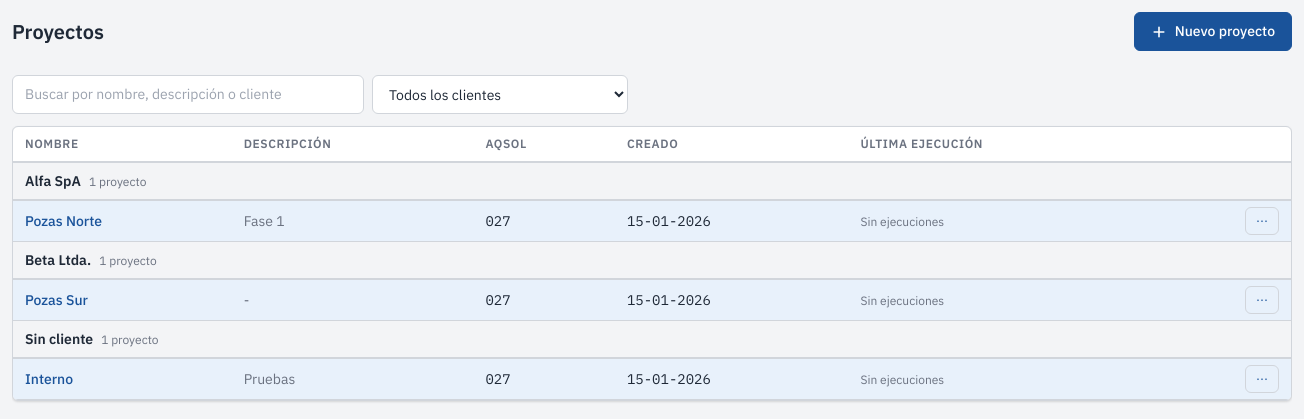
ProjectsPage F8 › filtra por texto y por cliente
Check: the link "Pozas Norte" is shown, box top-left (25, 212), bottom-right (102, 230)
Type "pruebas" into the search field with test id "project-filter".
click(188, 94); type("pruebas")  # box top-left (12, 75), bottom-right (364, 114)
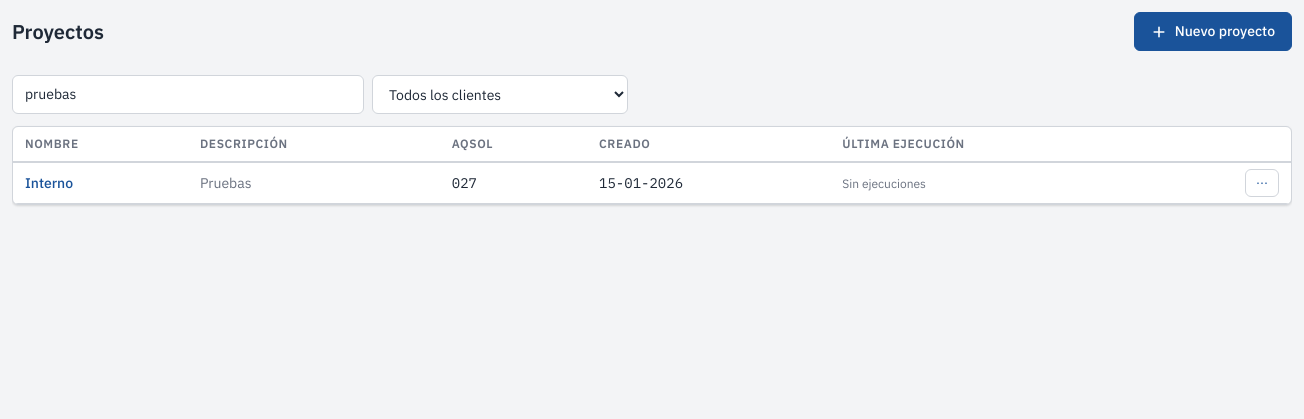
Check: the link "Interno" is shown, box top-left (25, 174), bottom-right (73, 192)
Check: the link "Pozas Norte" is gone
Clear the search field with test id "project-filter" at point(188, 94), box top-left (12, 75), bottom-right (364, 114)
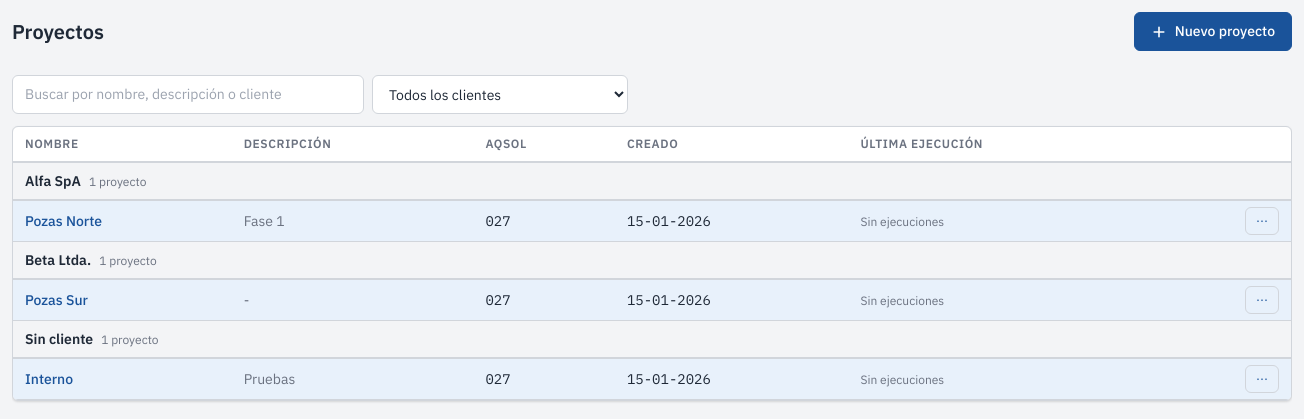
Select "Beta Ltda." in the dropdown with test id "client-filter" at point(500, 94), box top-left (372, 75), bottom-right (628, 114)
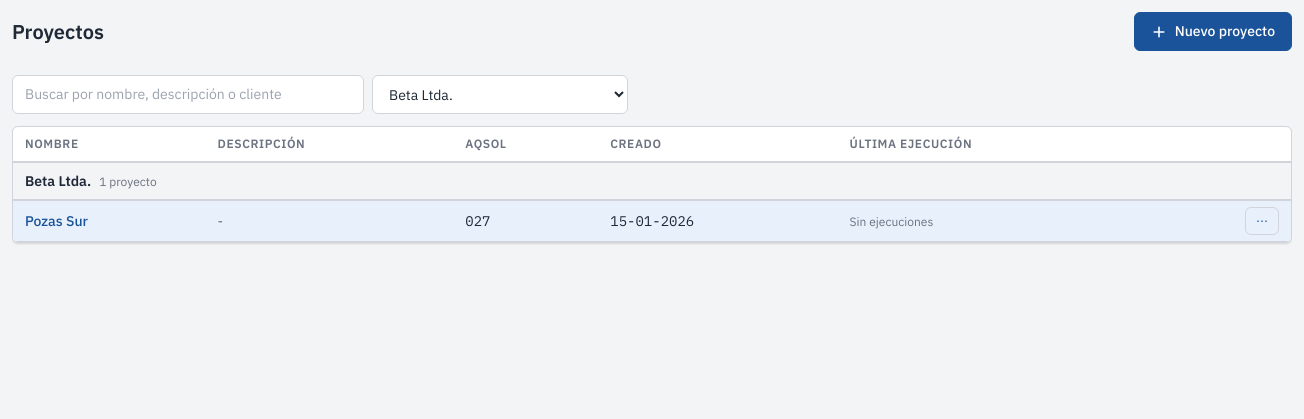
Check: the link "Pozas Sur" is shown, box top-left (25, 212), bottom-right (88, 230)
Check: the link "Interno" is gone
Select "Sin cliente" in the dropdown with test id "client-filter" at point(500, 94), box top-left (372, 75), bottom-right (628, 114)
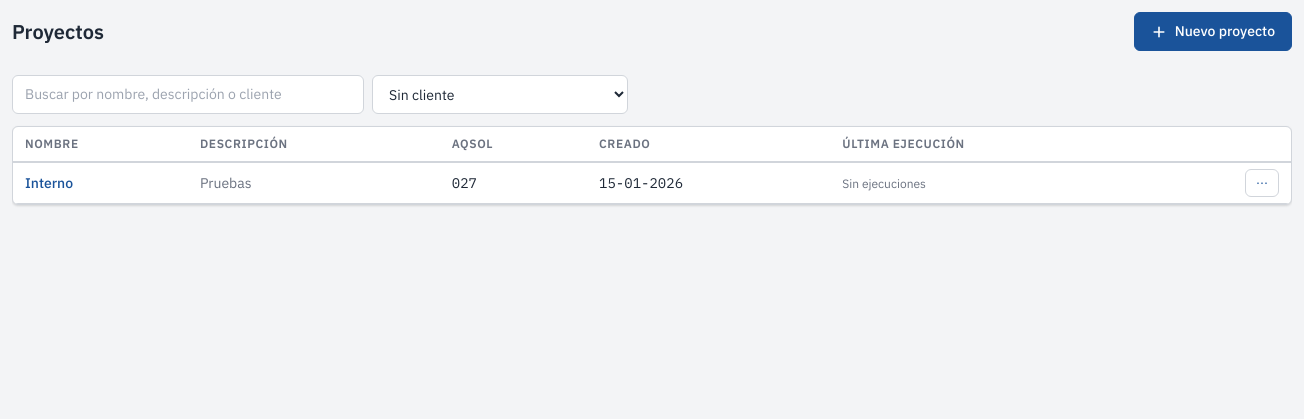
Check: the link "Interno" is shown, box top-left (25, 174), bottom-right (73, 192)
Check: the link "Pozas Sur" is gone
